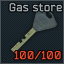Gas station storage room key: (0, 0, 64, 64)
